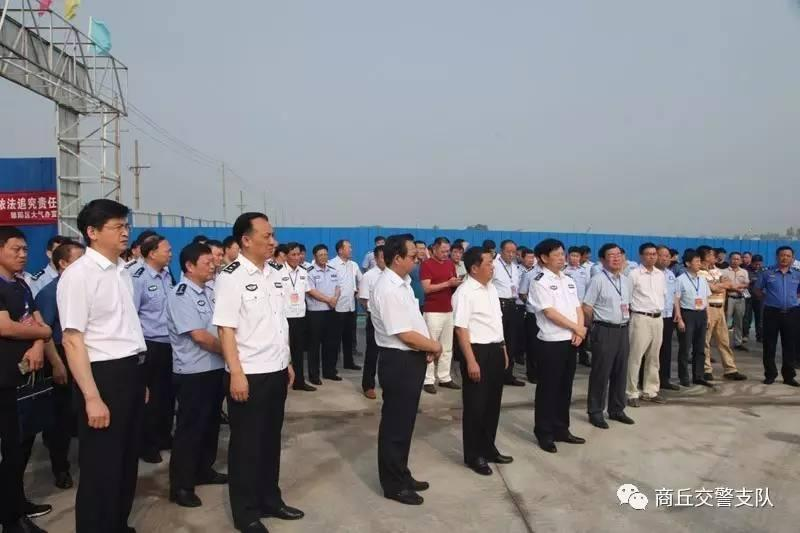NoHelmet: (79, 197, 133, 255), (232, 211, 277, 259)
NoVest: (368, 269, 428, 351), (533, 269, 586, 341), (455, 277, 505, 346)
